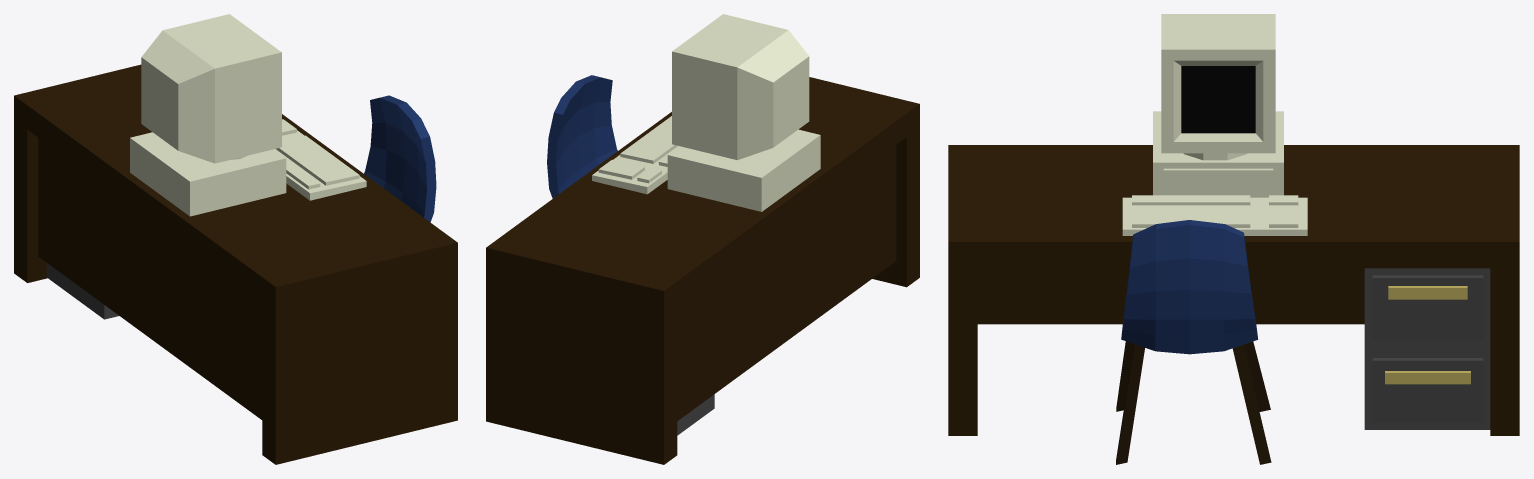
File: PropsOficina.fbx
The picture shows the model from 3 angles, left to right: view 1: azimuth 30°, elevation 25°; view 2: azimuth 150°, elevation 25°; view 3: azimuth 270°, elevation 25°; orthographic projection. The views are drawn at different scales.
Parts seen in each view (by area): view 1: Mesa_Oficina, Monitor, PC, Respaldo, Teclado, Archivador; view 2: Mesa_Oficina, Monitor, PC, Respaldo, Teclado, Archivador; view 3: Mesa_Oficina, Archivador, Monitor, Respaldo, Teclado, PC, Pata3, Pata4, Pata2, Pata1.
Part boxes in pixels (left/top/right/bottom): Mesa_Oficina: left=14, top=64, right=457, bottom=464; Monitor: left=141, top=14, right=281, bottom=163; PC: left=130, top=132, right=286, bottom=216; Respaldo: left=364, top=95, right=436, bottom=222; Teclado: left=274, top=119, right=366, bottom=200; Archivador: left=46, top=263, right=118, bottom=319; Mesa_Oficina: left=486, top=77, right=919, bottom=464; Monitor: left=672, top=14, right=809, bottom=160; PC: left=667, top=129, right=820, bottom=211; Respaldo: left=547, top=75, right=617, bottom=198; Teclado: left=592, top=116, right=679, bottom=194; Archivador: left=677, top=394, right=714, bottom=435; Mesa_Oficina: left=948, top=145, right=1519, bottom=435; Archivador: left=1364, top=268, right=1490, bottom=429; Monitor: left=1161, top=14, right=1275, bottom=153; Respaldo: left=1121, top=220, right=1258, bottom=354; Teclado: left=1122, top=195, right=1307, bottom=235; PC: left=1153, top=111, right=1283, bottom=197; Pata3: left=1232, top=344, right=1271, bottom=464; Pata4: left=1116, top=344, right=1144, bottom=464; Pata2: left=1244, top=341, right=1270, bottom=411; Pata1: left=1116, top=341, right=1133, bottom=411.
Bounding box in the file's own units: 110 × 133 × 200.
